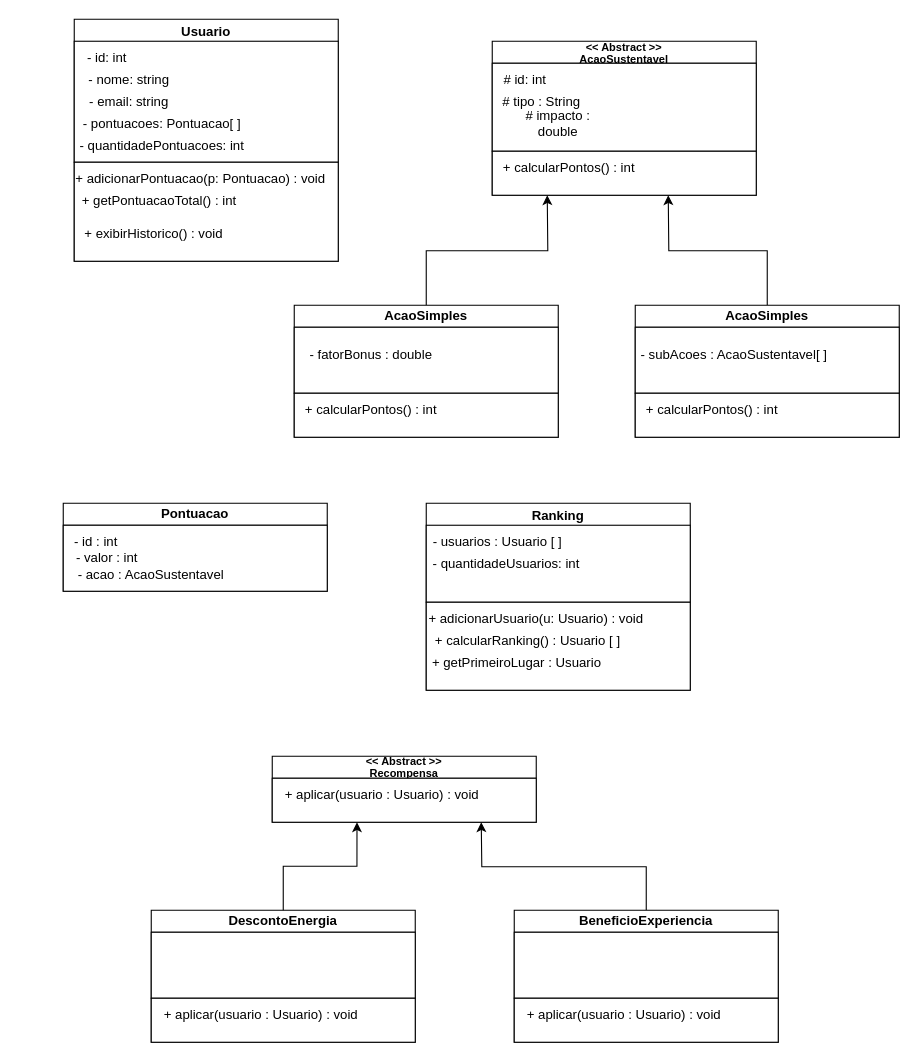
Some shapes in this 919 by 1062 pixel diagram are drawn without their labels. Here are the shapes that lost their labels. From the top down, the centre of each, then its label:
At point 282,964: "- percentual : double".
At point 645,964: "- tipoExperiencia : String".
